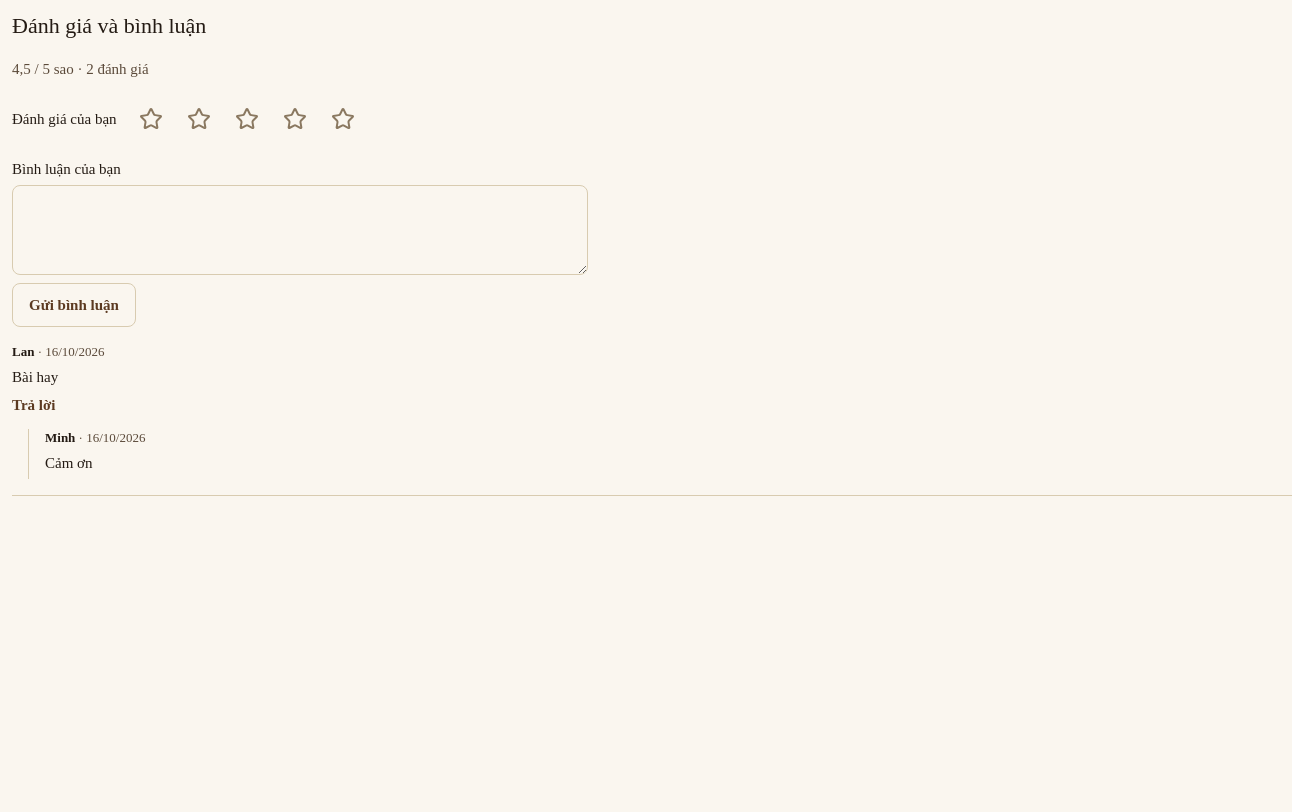
Scenario: LessonCommunity › lỗi gửi: 429, chưa xác minh email, trùng, 400, 404 hiện thông báo riêng và giữ chữ đã gõ
This screenshot has width=1292, height=812.
Type "abc" into the text box labelled "Bình luận của bạn" at (300, 230), box [12,185,588,275]
Click the button "Gửi bình luận" at (74, 305), box [12,283,136,327]
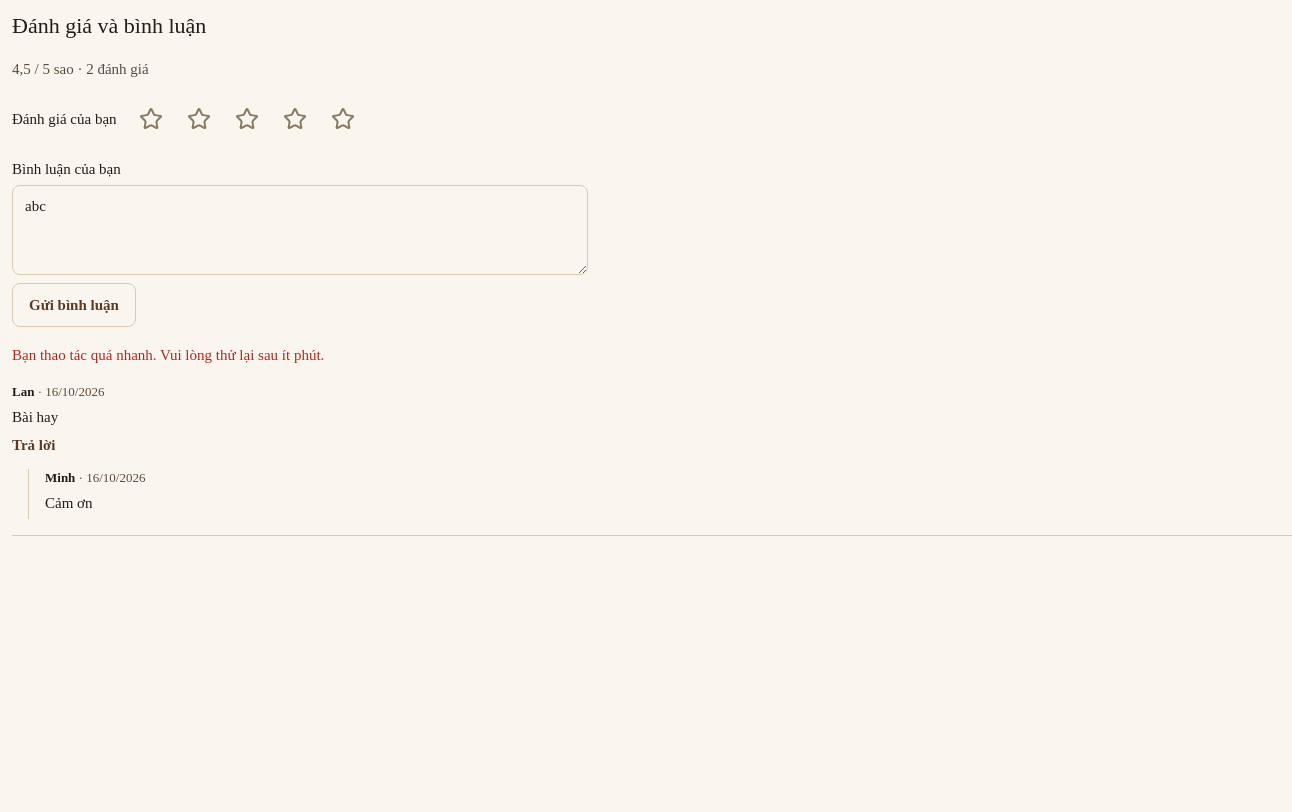
Now the message shows "quá nhanh", box [12,347,324,363]
Click the button "Gửi bình luận" at (74, 305), box [12,283,136,327]
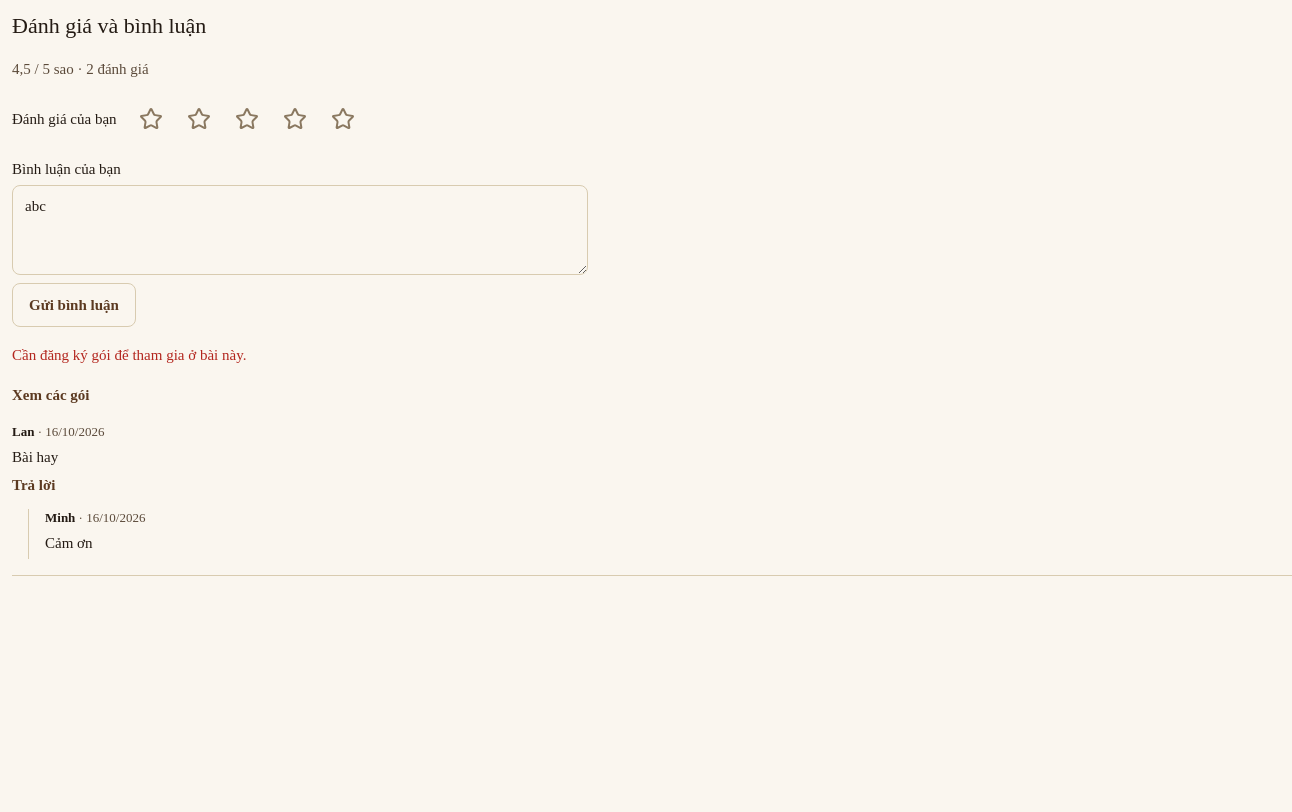
Now the message shows "Cần đăng ký gói", box [12,347,246,363]
Click the button "Gửi bình luận" at (74, 305), box [12,283,136,327]
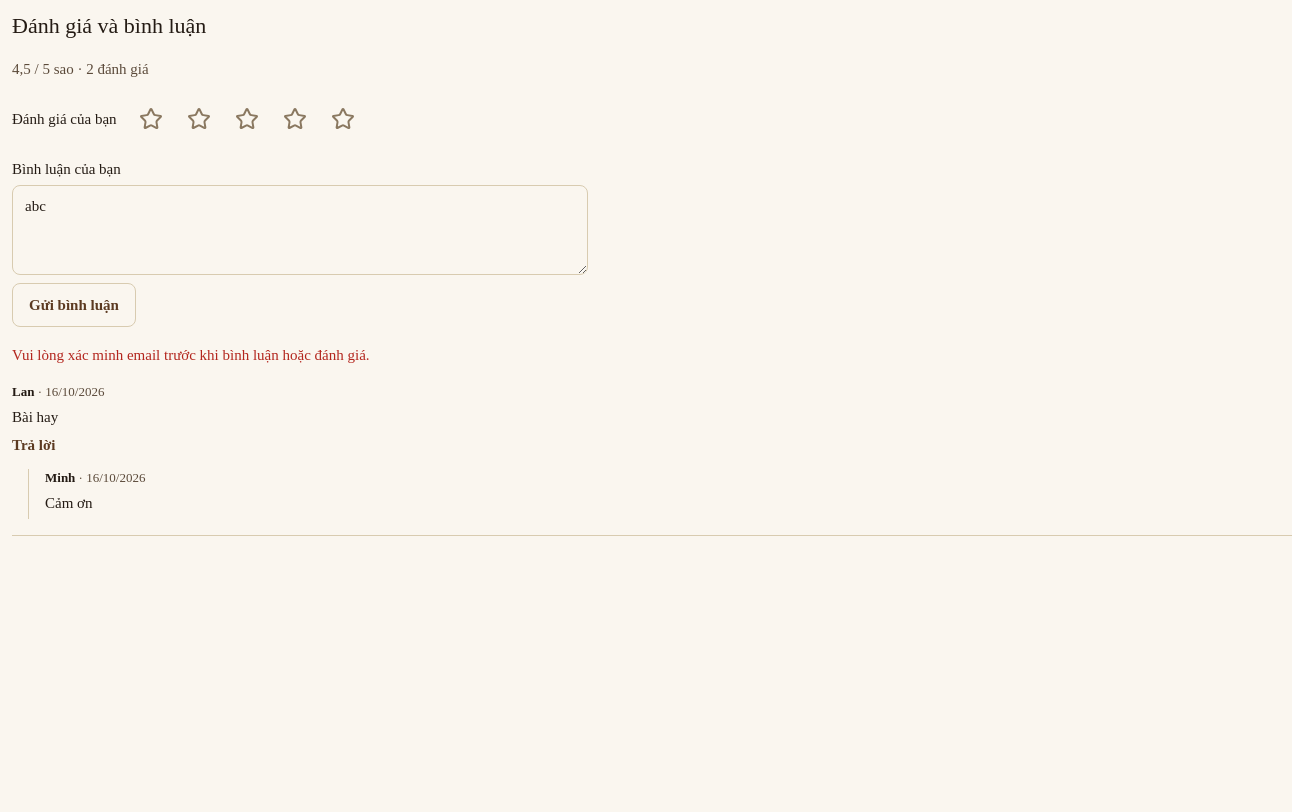
Now the message shows "xác minh email", box [12,347,370,363]
Click the button "Gửi bình luận" at (74, 305), box [12,283,136,327]
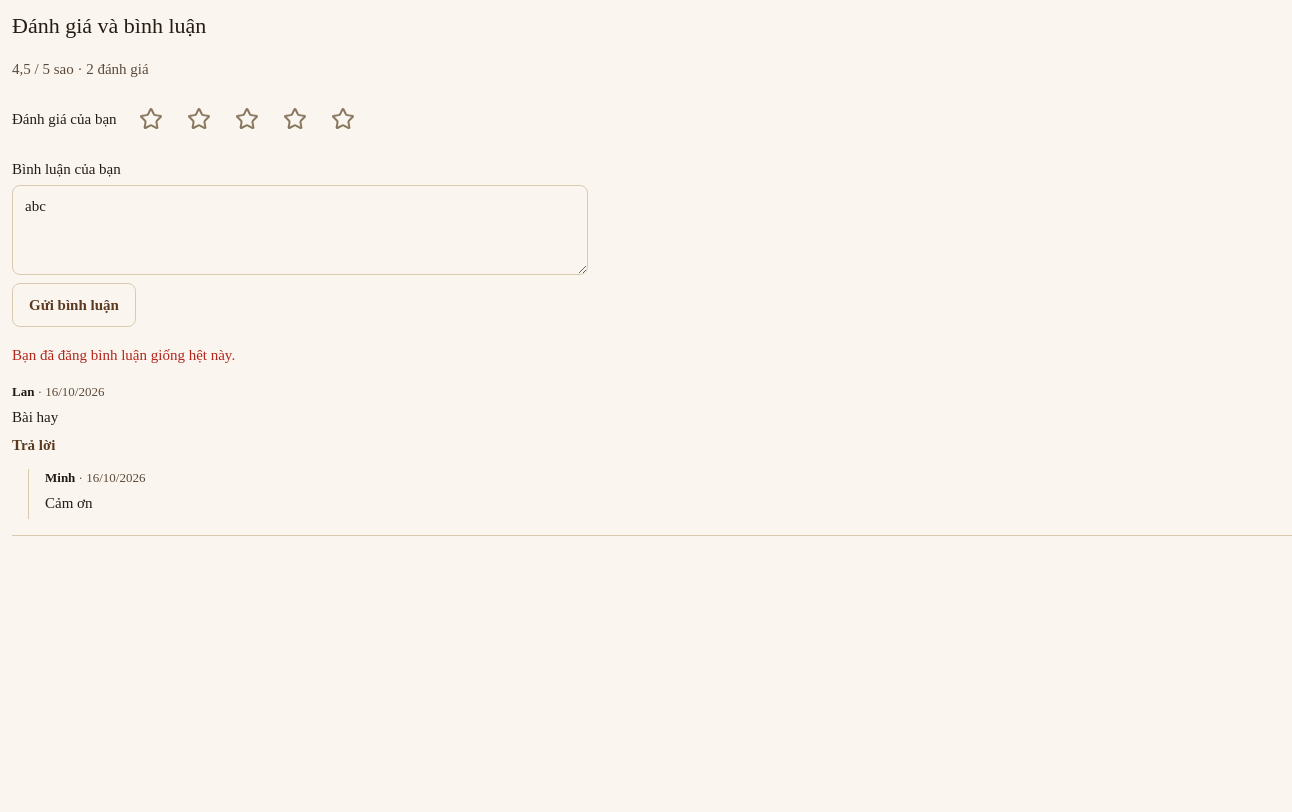
Now the message shows "giống hệt", box [12,347,235,363]
Click the button "Gửi bình luận" at (74, 305), box [12,283,136,327]
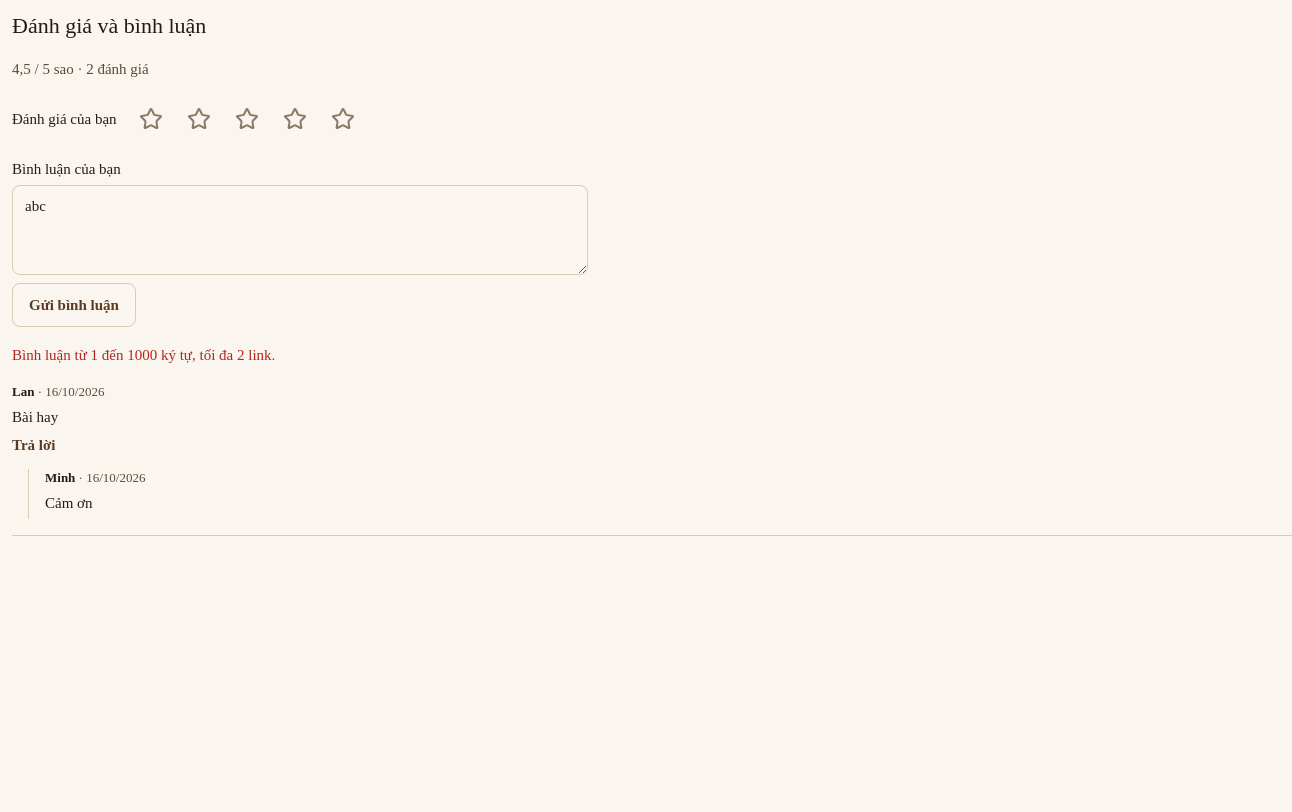
Now the message shows "tối đa 2 link", box [12,347,275,363]
Click the button "Gửi bình luận" at (74, 305), box [12,283,136,327]
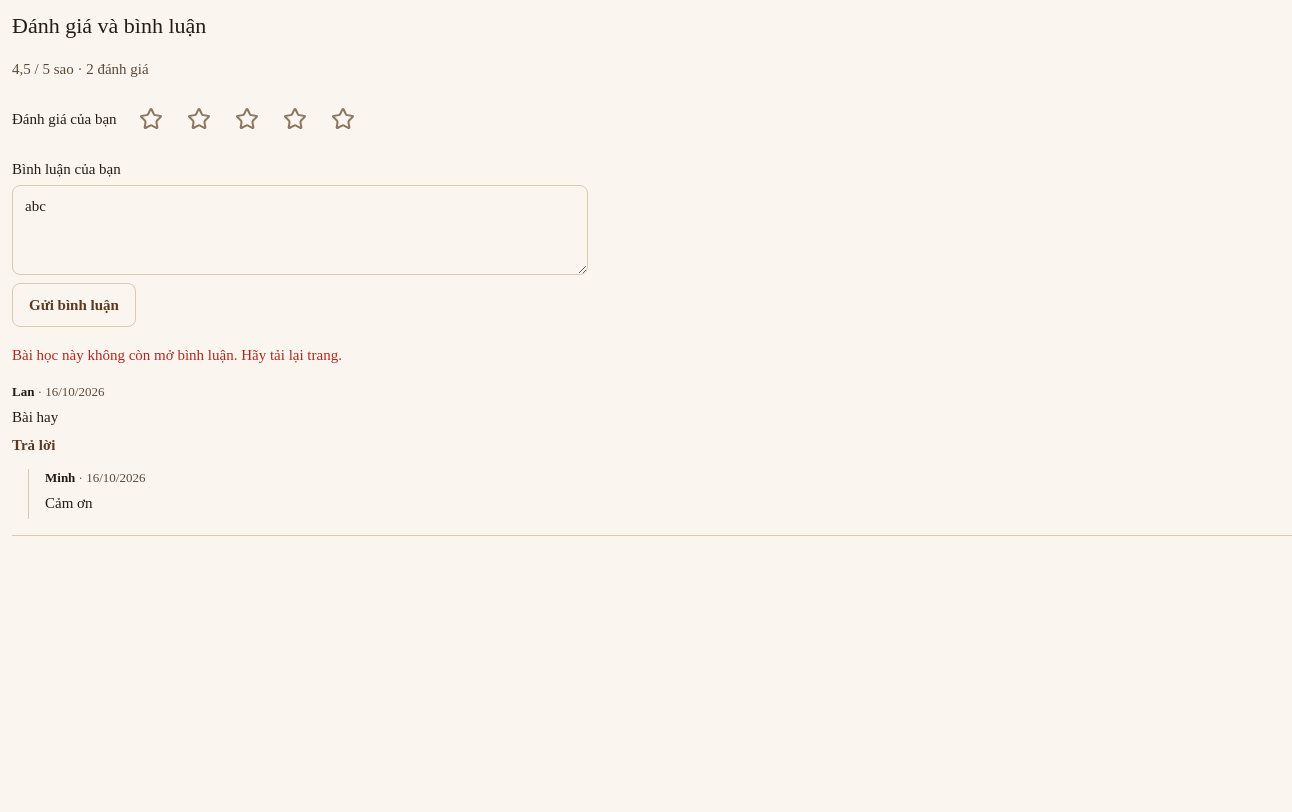
Now the message shows "không còn mở bình luận", box [12,347,342,363]
